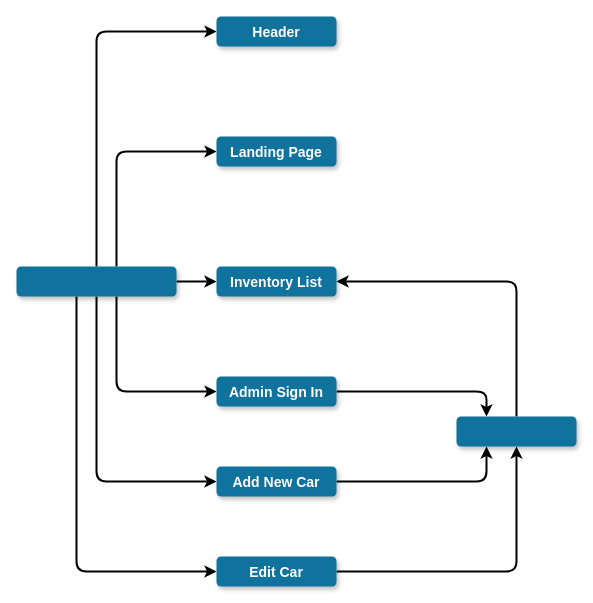
Some shapes in this 593 by 603 pixel diagram are drawn without their labels. Each missing label, with the centre of its shape:
"App" goes at point (97, 282).
"Database" goes at point (517, 432).
